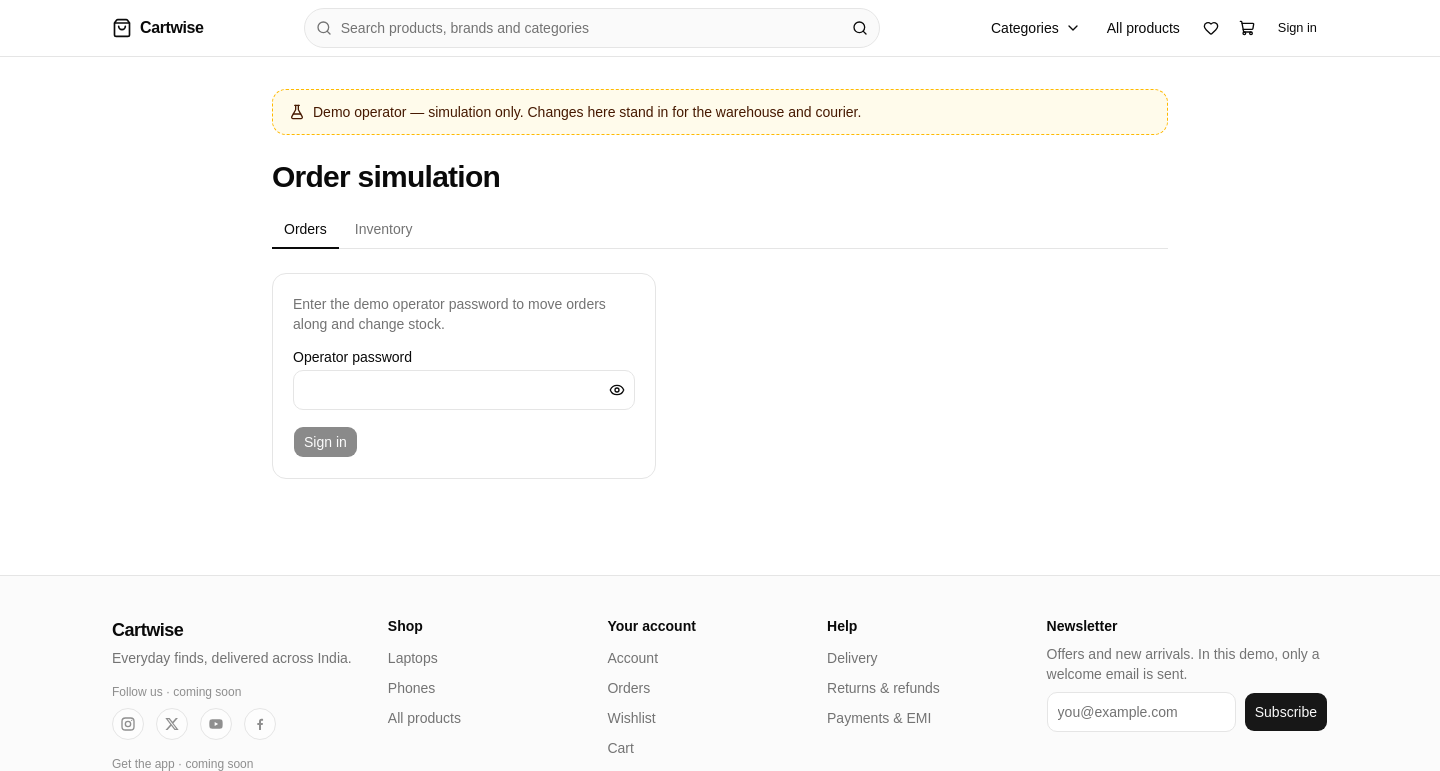
Test case: simulation console › shares one sign-in across tabs, with tab navigation
The image size is (1440, 771).
Check: the password field labelled "Operator password" is shown, box top-left (293, 370), bottom-right (635, 410)
Click the link "Inventory" at (384, 229), box top-left (355, 221), bottom-right (412, 237)
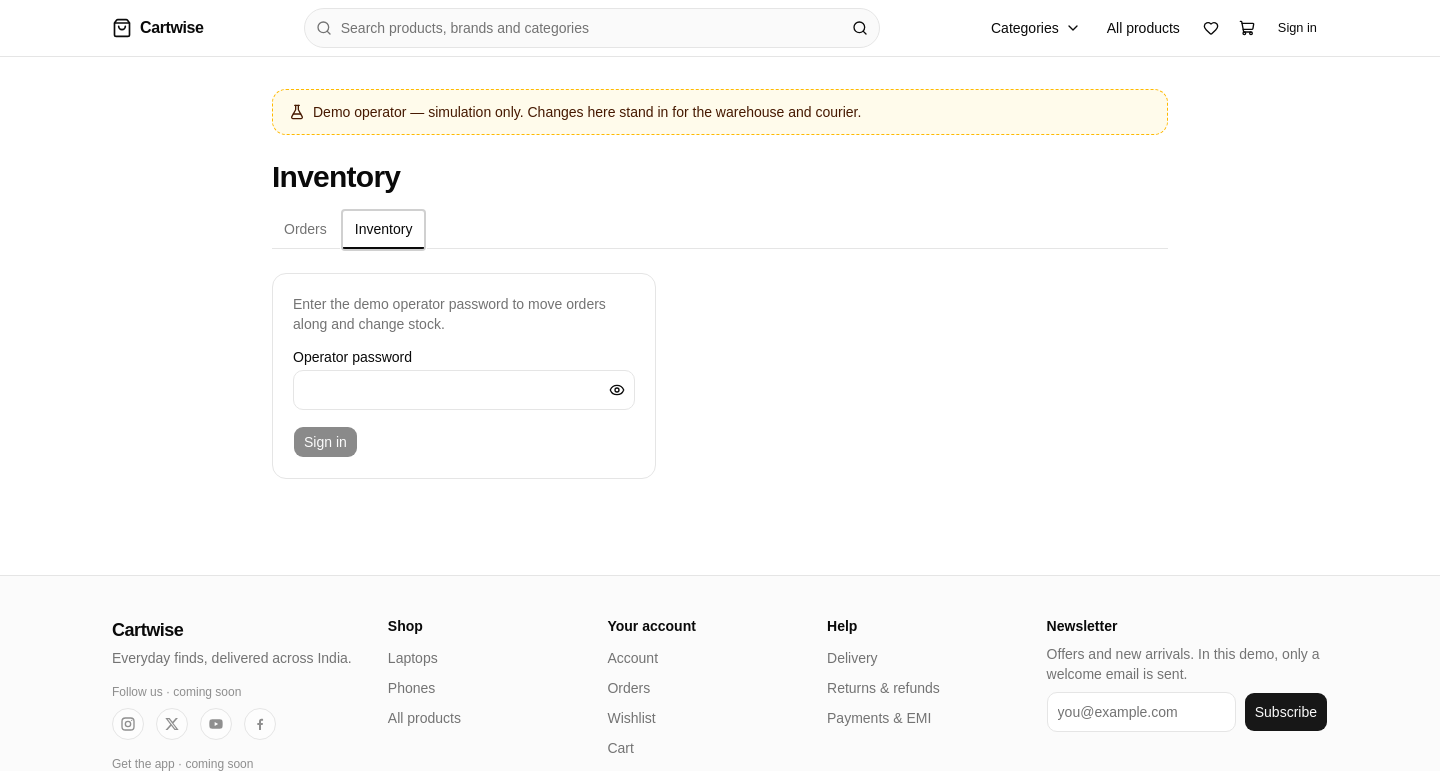
Check: the heading "Inventory" is shown, box top-left (272, 159), bottom-right (400, 195)
